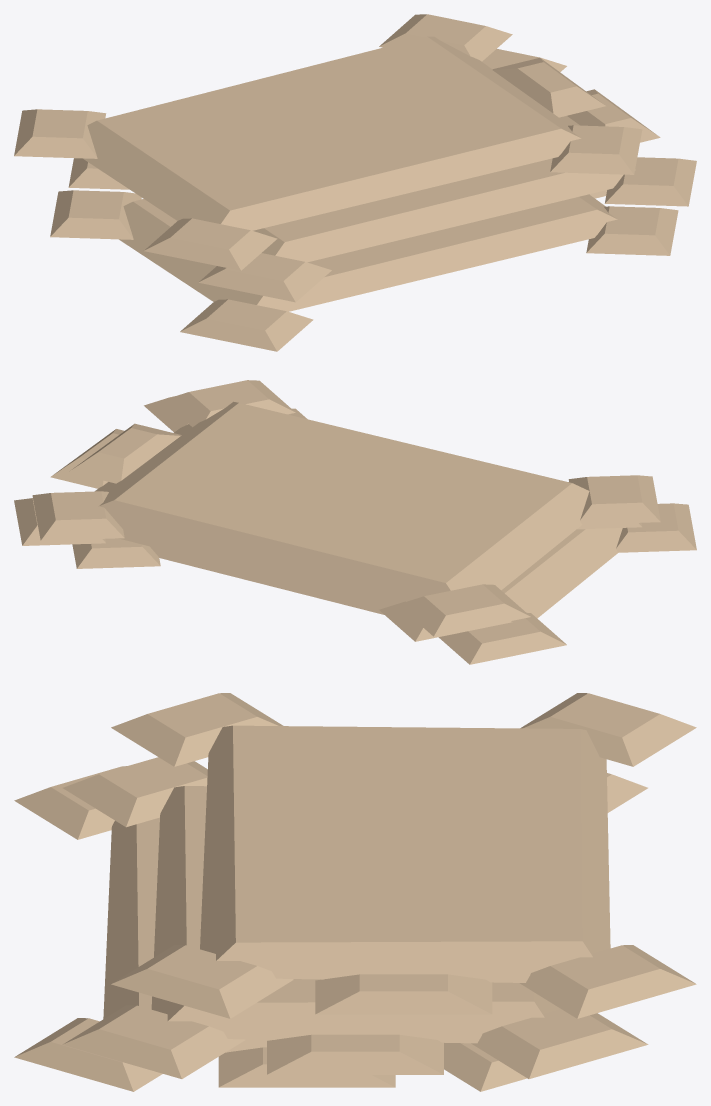
The model's file is item_013_hide_wrap_m.glb.
3 views of the same model, one above another, from view 1: azimuth 30°, elevation 25°; view 2: azimuth 150°, elevation 25°; view 3: azimuth 270°, elevation 25° (orthographic). The views are drawn at different scales.
Visible parts, largest first — view 1: item_013_hide_wrap_m; view 2: item_013_hide_wrap_m; view 3: item_013_hide_wrap_m.
Boxes of the visible parts, left/top/right/bottom form: item_013_hide_wrap_m: left=14, top=14, right=696, bottom=351; item_013_hide_wrap_m: left=14, top=380, right=696, bottom=664; item_013_hide_wrap_m: left=14, top=693, right=696, bottom=1091.
Size of the model in its own units: 1.03 by 0.1434 by 0.8476.
